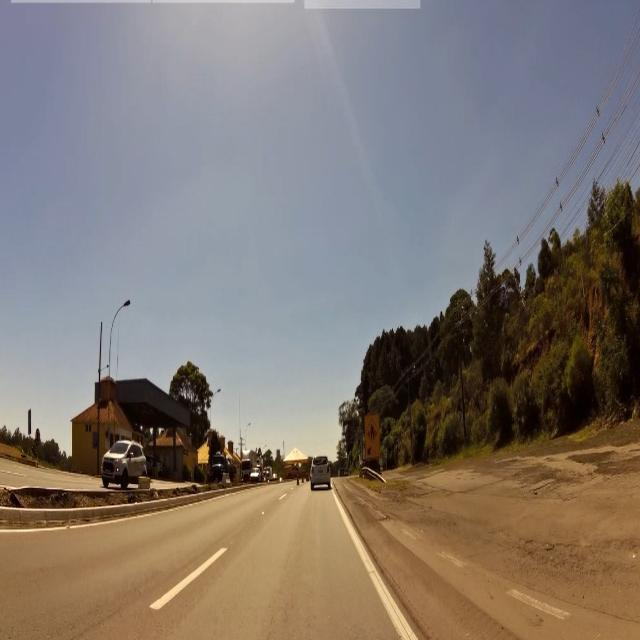A-32b: (366, 419, 379, 443)
